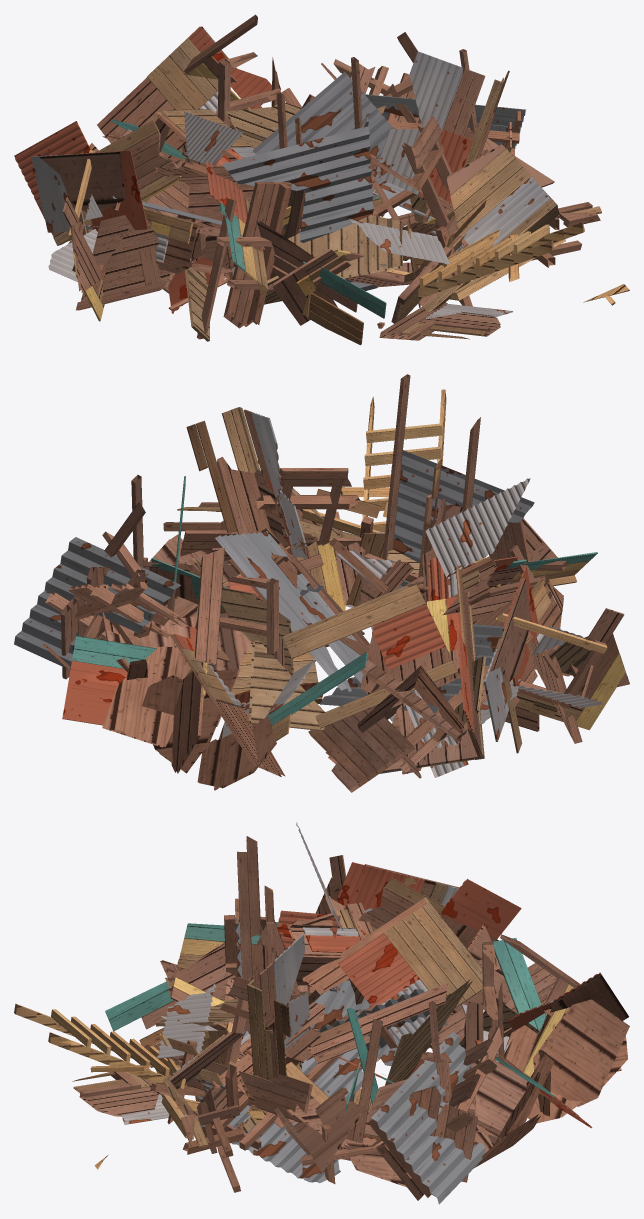
The model's file is houdini_stacked_shack_v6_pieces.glb.
The picture shows the model from 3 angles, top to bottom: view 1: azimuth 30°, elevation 25°; view 2: azimuth 150°, elevation 25°; view 3: azimuth 270°, elevation 25°; orthographic projection. The views are drawn at different scales.
Parts seen in each view (by area): view 1: LOD0; view 2: LOD0; view 3: LOD0.
Boxes of the visible parts, x1,y1,x2,y2 form: LOD0: (14, 14, 629, 345); LOD0: (14, 374, 629, 792); LOD0: (14, 822, 629, 1204).
Bounding box in the file's own units: 8.17 × 3.74 × 8.85.
2 materials, 2 textured.
